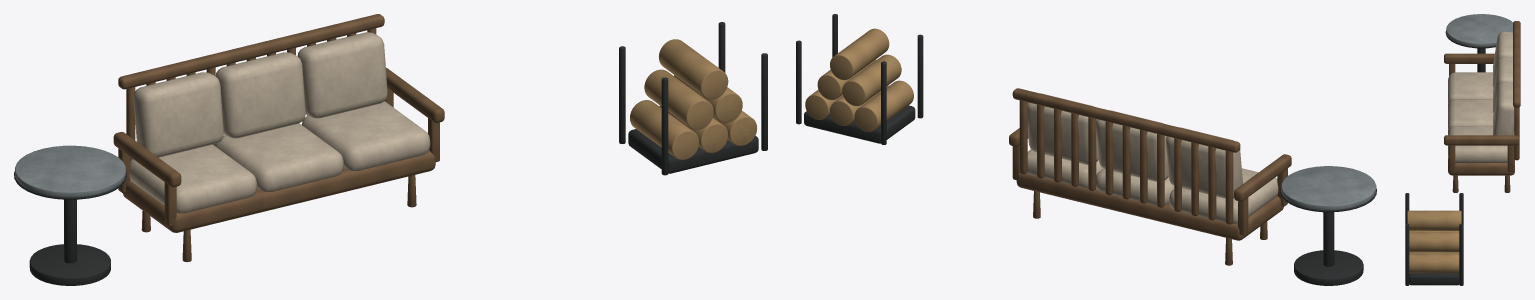
File: alpine-furniture.glb
The picture shows the model from 3 angles, left to right: view 1: azimuth 30°, elevation 25°; view 2: azimuth 150°, elevation 25°; view 3: azimuth 270°, elevation 25°; orthographic projection. The views are drawn at different scales.
Parts seen in each view (by area): view 1: Individual tailored seat cushion, Floating bench frame, Split oak log, Weighted pedestal, Honed stone side table; view 2: Floating bench frame, Individual tailored seat cushion, Split oak log, Weighted pedestal, Honed stone side table; view 3: Individual tailored seat cushion, Floating bench frame, Split oak log, Weighted pedestal, Honed stone side table.
Boxes of the visible parts, bbox=[...] form: Individual tailored seat cushion: bbox=[129, 32, 430, 213]; Floating bench frame: bbox=[113, 14, 444, 261]; Split oak log: bbox=[630, 39, 757, 160]; Weighted pedestal: bbox=[14, 22, 767, 285]; Honed stone side table: bbox=[15, 145, 125, 197]; Floating bench frame: bbox=[1009, 88, 1291, 265]; Individual tailored seat cushion: bbox=[1026, 93, 1278, 223]; Split oak log: bbox=[805, 28, 913, 131]; Weighted pedestal: bbox=[796, 14, 1376, 285]; Honed stone side table: bbox=[1281, 166, 1376, 209]; Individual tailored seat cushion: bbox=[1448, 31, 1514, 162]; Floating bench frame: bbox=[1444, 21, 1520, 192]; Split oak log: bbox=[1407, 210, 1461, 273]; Weighted pedestal: bbox=[1405, 30, 1495, 285]; Honed stone side table: bbox=[1446, 14, 1513, 46].
Bounding box in the file's own units: 4.28 × 0.9025 × 0.9805.
5 materials, 5 textured.
